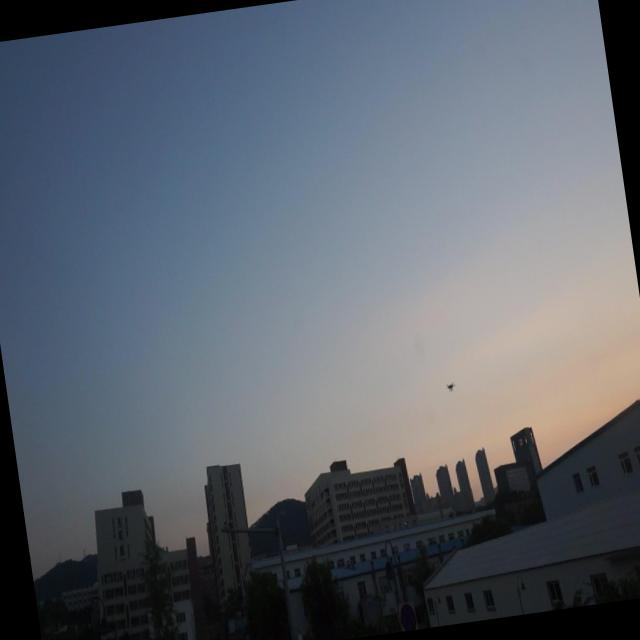drone: (444, 380, 456, 394)
